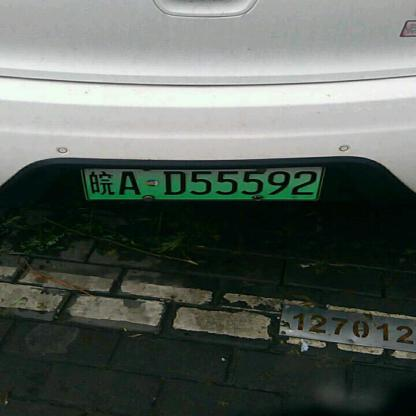lp: (80, 165, 322, 200)
